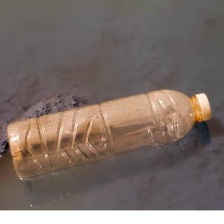bottle: (2, 87, 224, 182)
